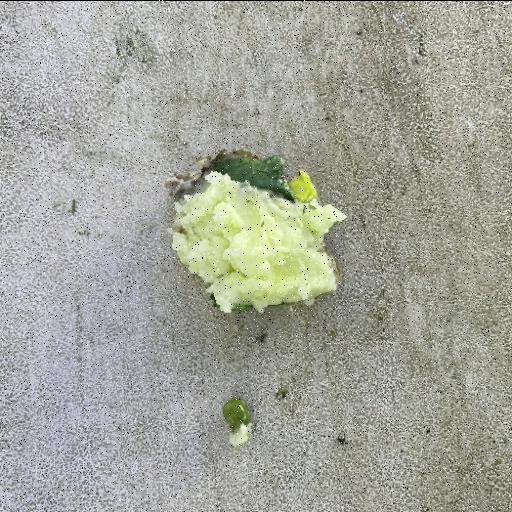Waste: (167, 152, 348, 314), (221, 396, 254, 448)
